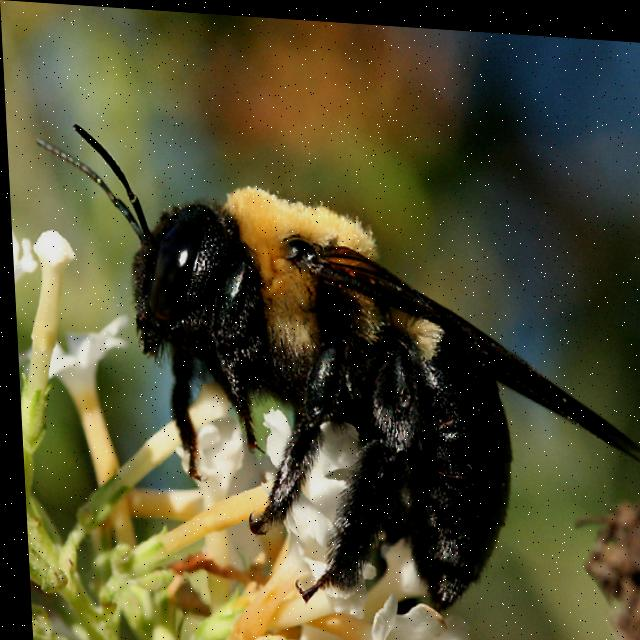Xylocopa: (27, 107, 640, 615)
